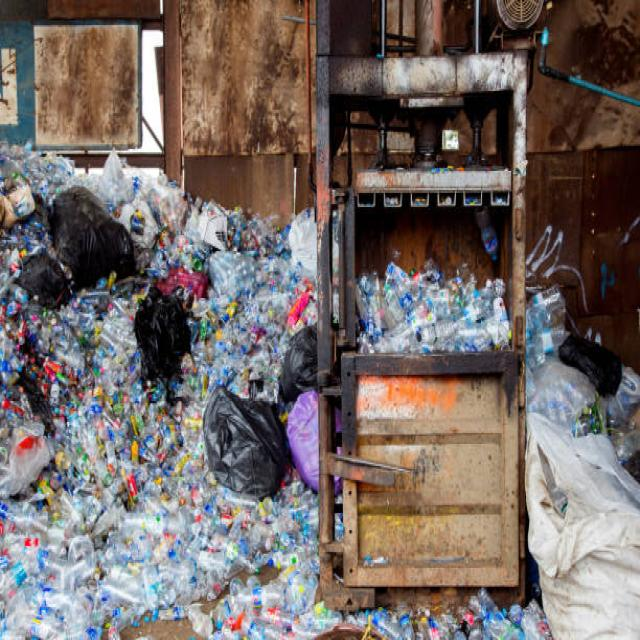plastic: (24, 496, 294, 632)
trash: (205, 388, 291, 505), (44, 186, 134, 292)
